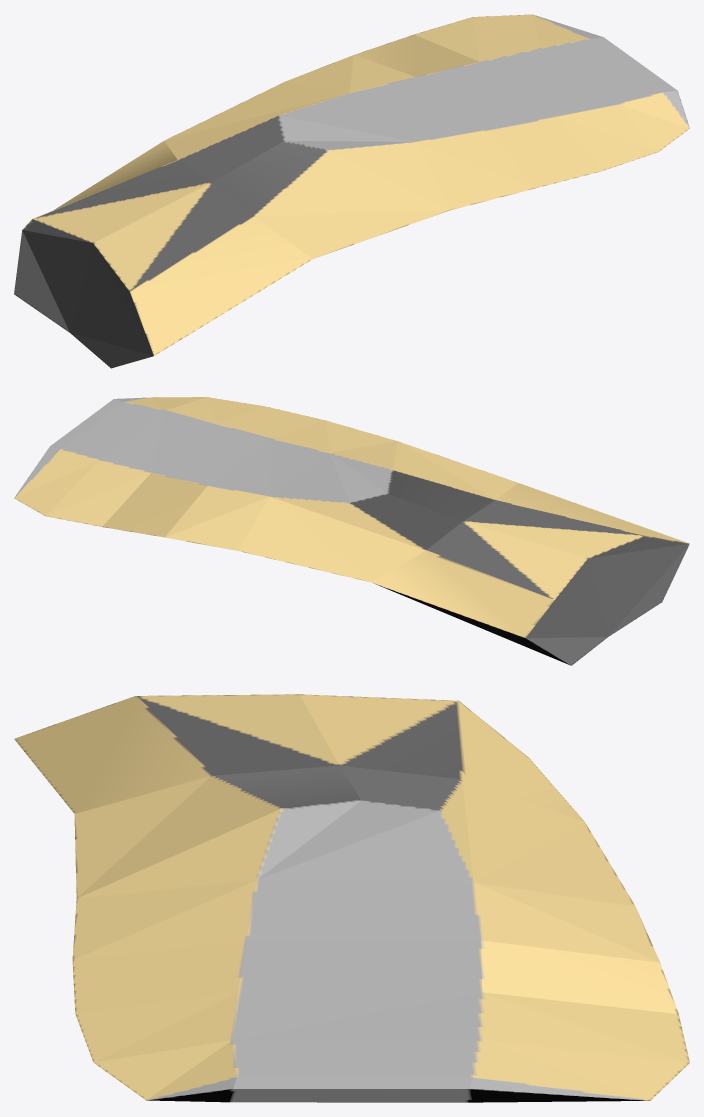
File: wing 5.FBX
3 views of the same model, one above another, from view 1: azimuth 30°, elevation 25°; view 2: azimuth 150°, elevation 25°; view 3: azimuth 270°, elevation 25° (orthographic). The views are drawn at different scales.
Visible parts, largest first — view 1: Box001; view 2: Box001; view 3: Box001.
Boxes of the visible parts, bbox=[...] form: Box001: bbox=[14, 14, 689, 368]; Box001: bbox=[14, 397, 689, 665]; Box001: bbox=[14, 694, 689, 1102].
Bounding box in the file's own units: 105 × 21.1 × 64.04.
Materials: 1 (1 with a texture image).
